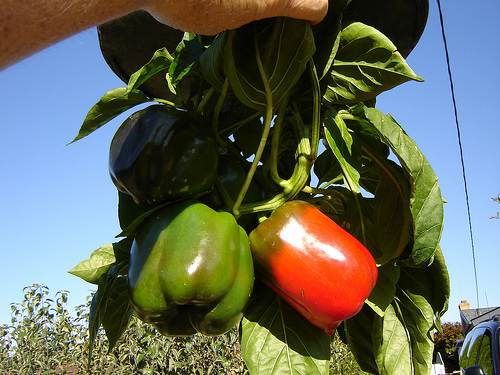capsicum: (130, 199, 254, 337), (250, 199, 377, 330), (107, 105, 218, 219)
